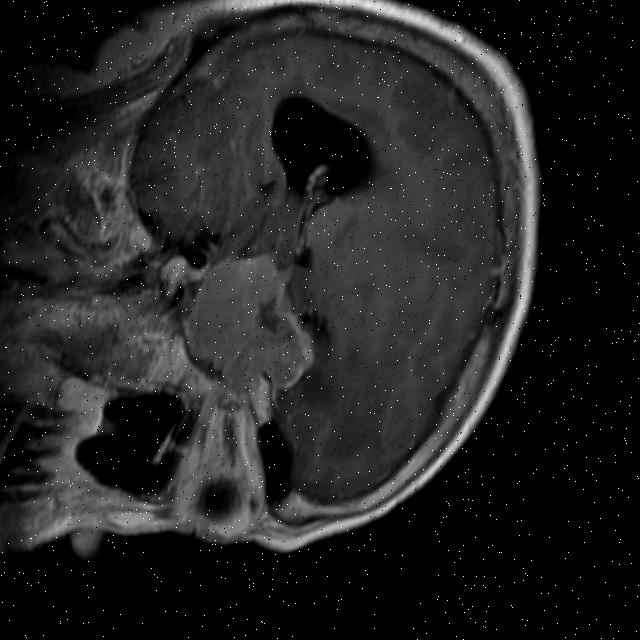Meningioma: (167, 238, 335, 399)
